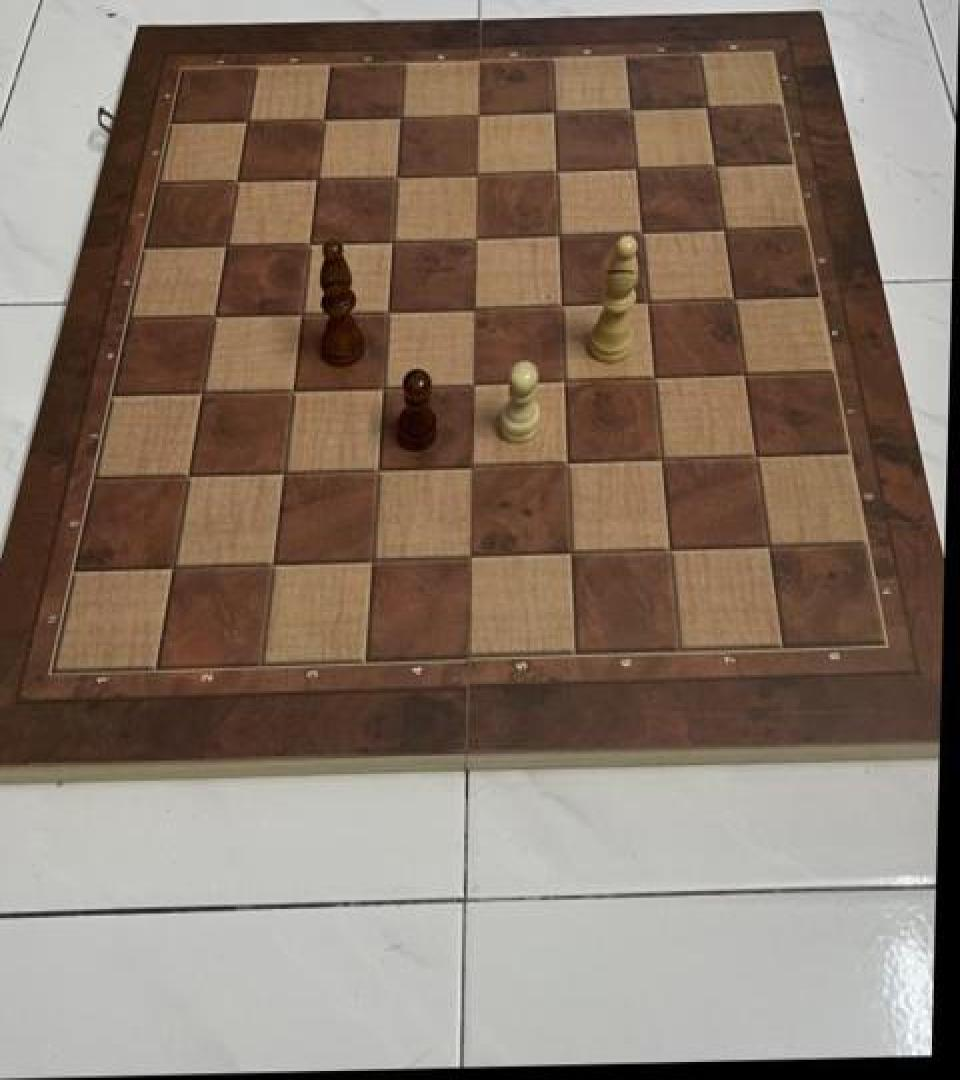xcorner: (379, 156, 413, 195), (370, 290, 404, 329), (737, 436, 771, 475), (170, 454, 204, 493), (690, 87, 724, 125), (613, 89, 647, 127), (536, 91, 570, 129), (383, 97, 417, 135), (306, 99, 340, 137), (230, 102, 264, 140), (698, 145, 732, 183), (618, 148, 652, 186), (538, 151, 572, 189), (458, 153, 492, 191), (299, 159, 333, 197), (220, 162, 254, 200), (706, 210, 740, 248), (623, 213, 657, 251), (540, 215, 574, 253), (457, 217, 491, 255), (374, 220, 408, 258), (292, 223, 326, 261), (209, 226, 243, 264), (716, 279, 750, 317), (629, 282, 663, 320), (542, 285, 576, 323), (456, 287, 490, 325), (283, 292, 317, 330), (197, 296, 231, 334), (726, 354, 760, 392), (635, 358, 669, 396), (545, 360, 579, 398), (454, 364, 488, 402), (364, 366, 398, 404), (274, 369, 308, 407), (184, 372, 218, 410), (642, 440, 676, 478), (547, 444, 581, 482), (453, 446, 487, 484), (359, 449, 393, 487), (264, 452, 298, 490), (749, 528, 783, 566), (650, 531, 684, 569), (550, 534, 584, 572), (451, 537, 485, 575), (352, 540, 386, 578), (254, 544, 288, 582), (155, 546, 189, 584), (459, 95, 493, 132)
